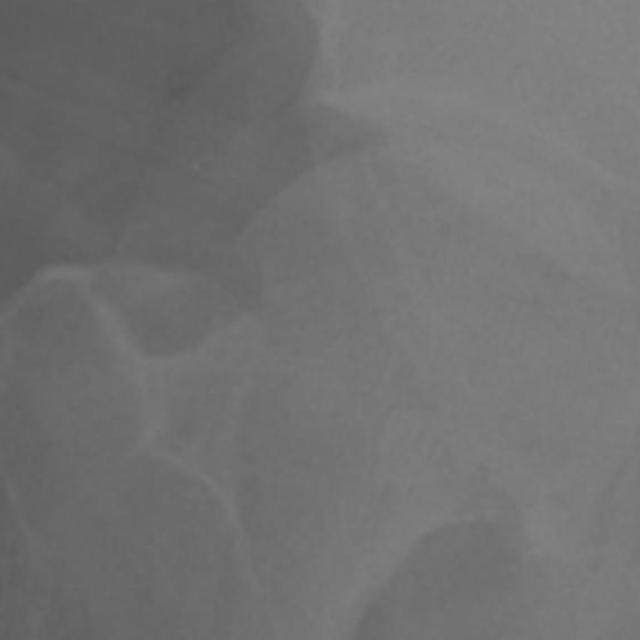Fitted_femural_head: (423, 136, 432, 423)
